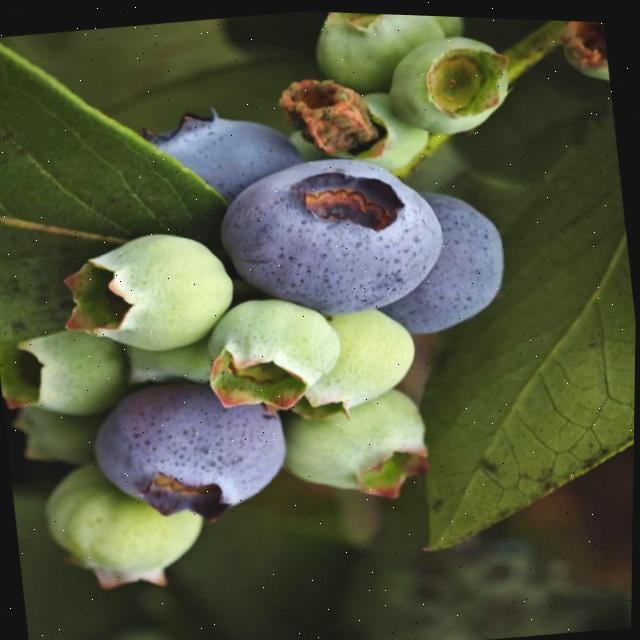RipeBlueBerry: (207, 138, 455, 330), (85, 368, 300, 531), (373, 176, 512, 338)
UnripeBlueBerry: (64, 221, 239, 364), (37, 458, 213, 595), (272, 378, 436, 506), (196, 287, 349, 414), (377, 22, 518, 142)
